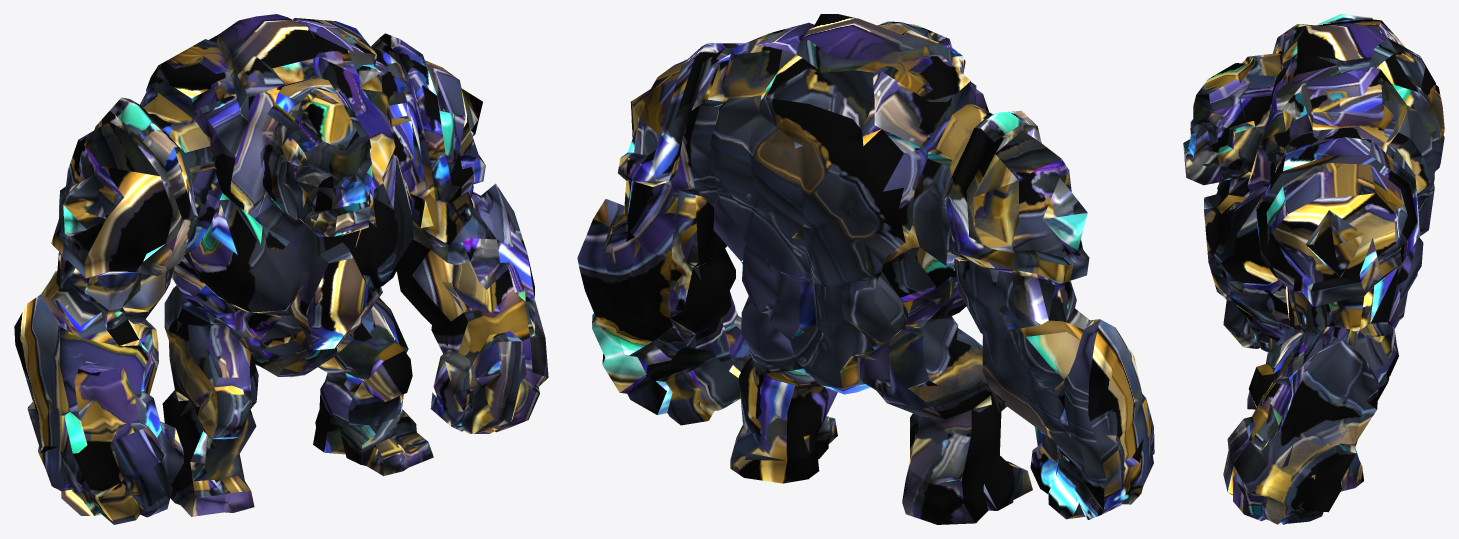
The model's file is creep_obsidianbrute_3d_LOD2.fbx.
The picture shows the model from 3 angles, left to right: view 1: azimuth 30°, elevation 25°; view 2: azimuth 150°, elevation 25°; view 3: azimuth 270°, elevation 25°; orthographic projection. The views are drawn at different scales.
Parts seen in each view (by area): view 1: Mesh1.0; view 2: Mesh1.0; view 3: Mesh1.0.
Part boxes in pixels (bbox=[...]): Mesh1.0: bbox=[14, 14, 548, 524]; Mesh1.0: bbox=[577, 14, 1154, 524]; Mesh1.0: bbox=[1183, 14, 1444, 524].
Size of the model in its own units: 88.94 by 74.86 by 43.06.
